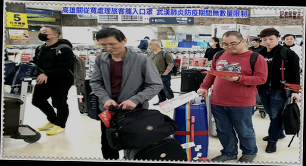with_mask: (37, 28, 53, 43), (208, 39, 215, 47)
without_mask: (99, 40, 122, 56), (221, 39, 243, 54), (261, 36, 278, 50), (284, 37, 296, 46), (147, 42, 156, 52), (252, 40, 258, 47)
